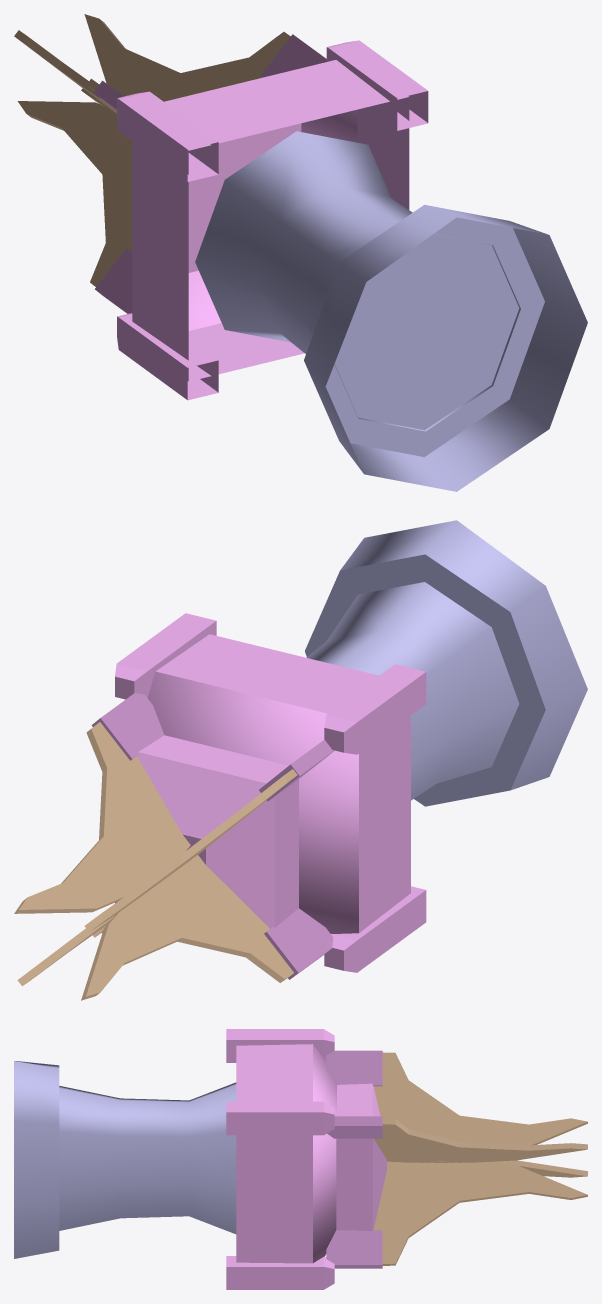
The picture shows the model from 3 angles, top to bottom: view 1: azimuth 30°, elevation 25°; view 2: azimuth 150°, elevation 25°; view 3: azimuth 270°, elevation 25°; orthographic projection. The views are drawn at different scales.
Visible parts, largest first — view 1: Object42; view 2: Object42; view 3: Object42.
Part boxes in pixels (box(x1,y1,x2,y2)): Object42: box(14, 14, 587, 491); Object42: box(14, 520, 587, 1000); Object42: box(14, 1029, 587, 1289).
Bounding box in the file's own units: 12143 × 12143 × 32496.
